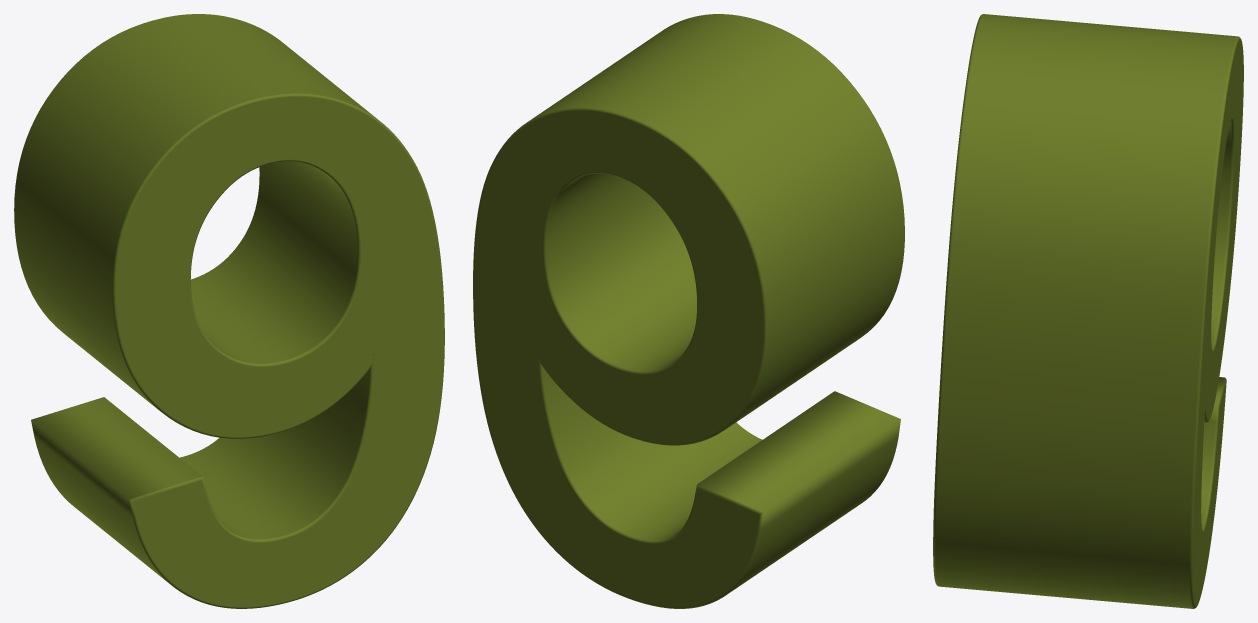
3 renders of one model, left to right at view 1: azimuth 30°, elevation 25°; view 2: azimuth 150°, elevation 25°; view 3: azimuth 270°, elevation 25°, orthographic. The views are drawn at different scales.
Parts seen in each view (by area): view 1: Text; view 2: Text; view 3: Text.
Part boxes in pixels (x1,y1,x2,y2): Text: [14, 14, 444, 608]; Text: [473, 14, 904, 608]; Text: [933, 14, 1243, 608].
Size of the model in its own units: 97.39 by 143 by 73.13.
